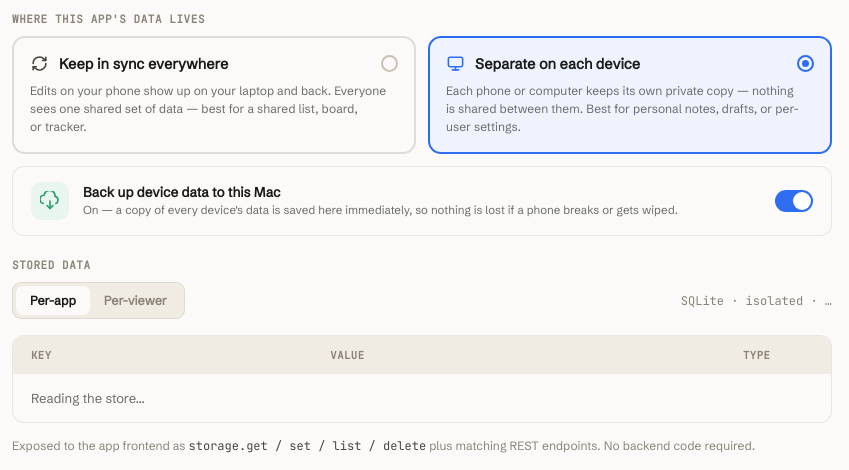
the stored data › counts what each device holds without showing what is in it
Click the tab "Per-viewer".
click(135, 300)  # box left=90, top=286, right=181, bottom=315
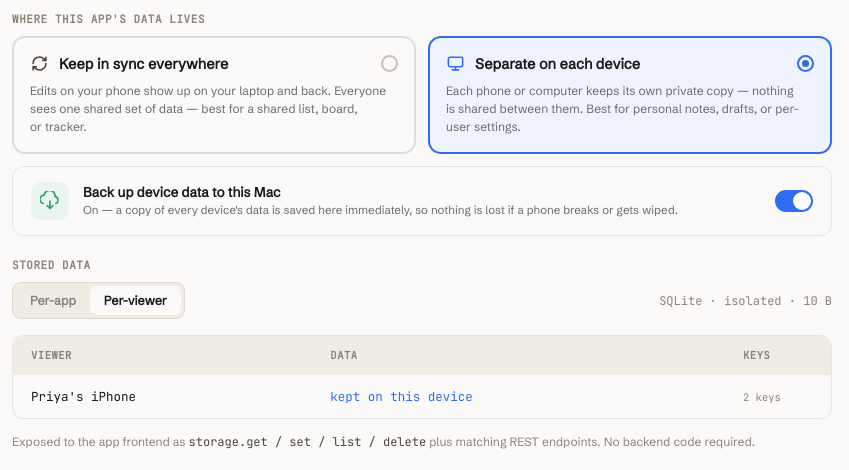
Expected: the text "Priya's iPhone" is shown, left=31, top=388, right=136, bottom=405
Expected: the text "2 keys" is shown, left=743, top=390, right=781, bottom=404
Expected: the text "VIEWER" is shown, left=31, top=348, right=72, bottom=362
